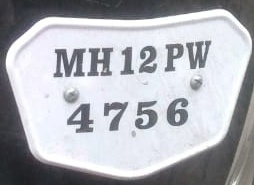character: (53, 47, 85, 76), (66, 102, 94, 134), (185, 40, 211, 70), (88, 46, 112, 77), (103, 100, 127, 131), (135, 100, 158, 129), (165, 97, 188, 126), (164, 42, 183, 73), (139, 45, 158, 73), (120, 45, 134, 76)
